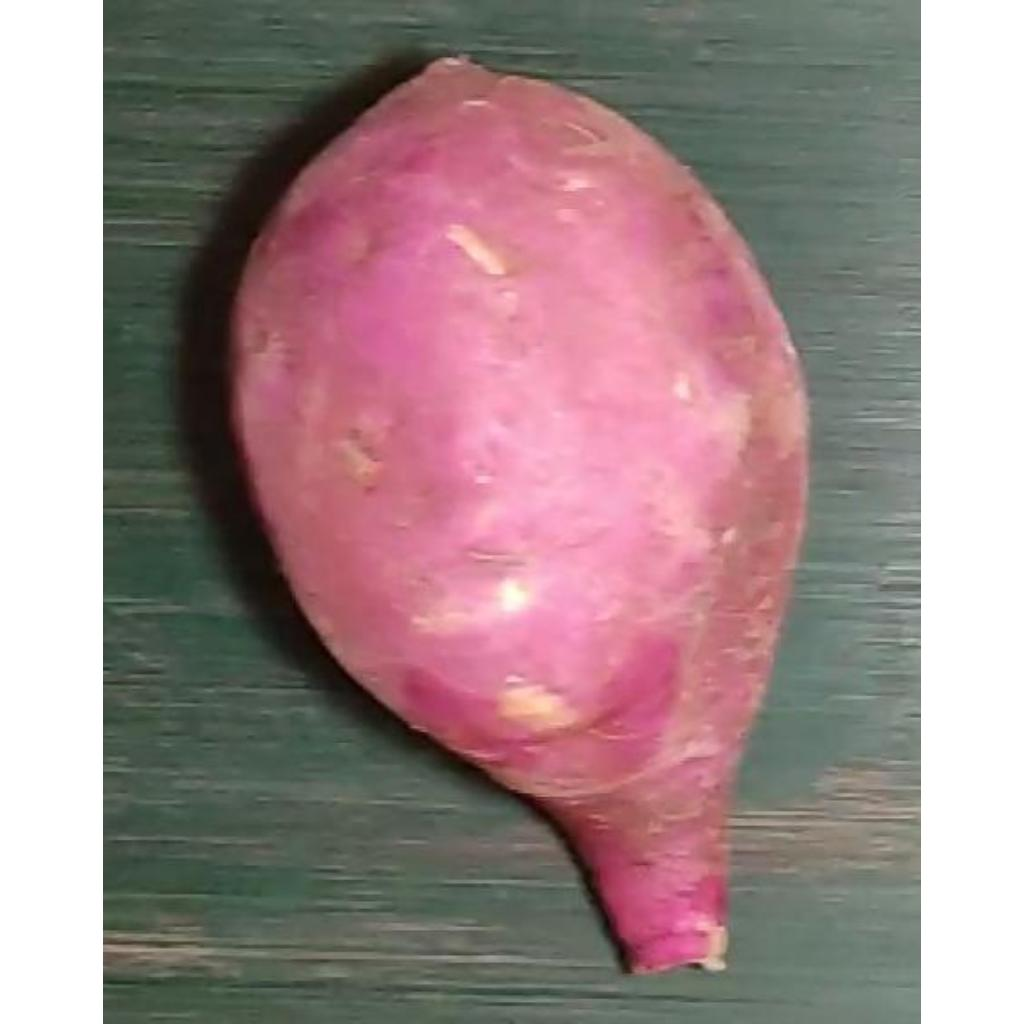Sweet Potato: (224, 56, 810, 979)
